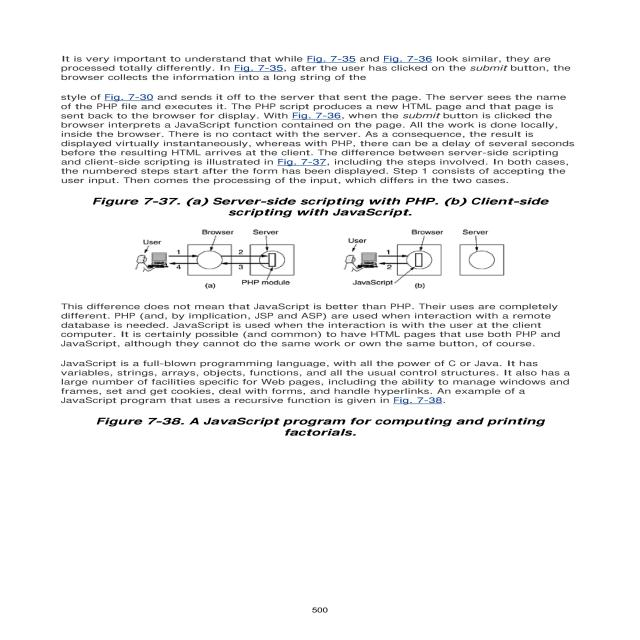diagram: (68, 190, 582, 295)
